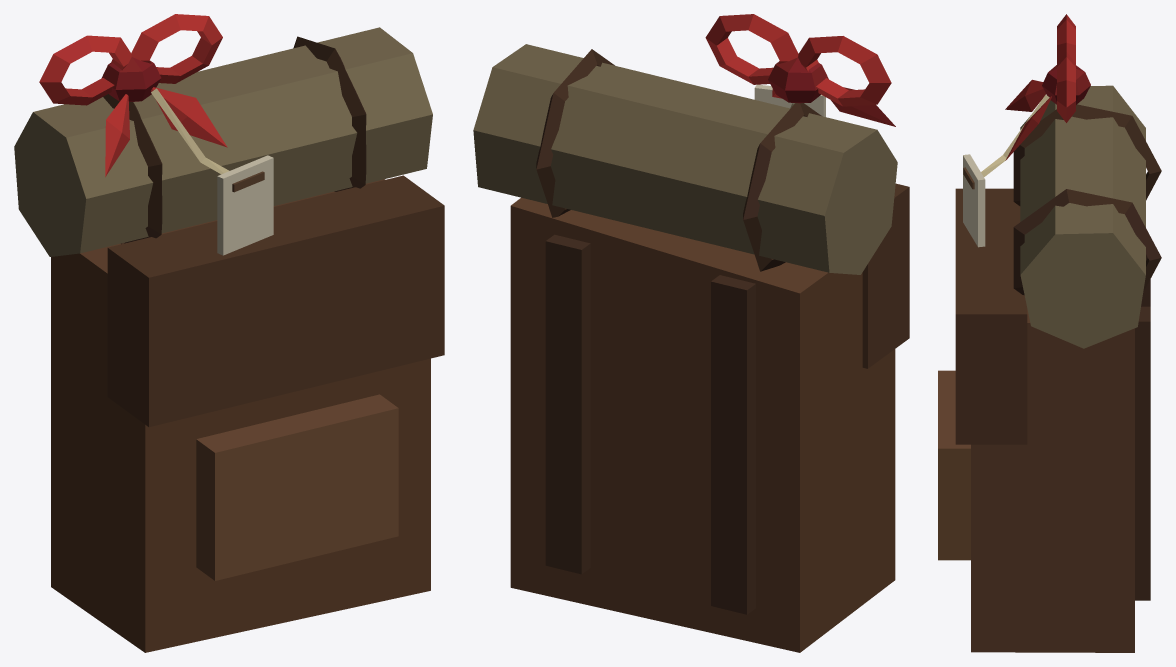
File: quest_backpack.glb
3 views of the same model, side by side, from view 1: azimuth 30°, elevation 25°; view 2: azimuth 150°, elevation 25°; view 3: azimuth 270°, elevation 25° (orthographic). The views are drawn at different scales.
Visible parts, largest first — view 1: quest_backpack; view 2: quest_backpack; view 3: quest_backpack.
Part boxes in pixels (left/top/right/bottom): quest_backpack: left=14, top=14, right=444, bottom=652; quest_backpack: left=473, top=14, right=909, bottom=652; quest_backpack: left=938, top=14, right=1161, bottom=652.
Size of the model in its own units: 0.2997 by 0.4573 by 0.1815.
